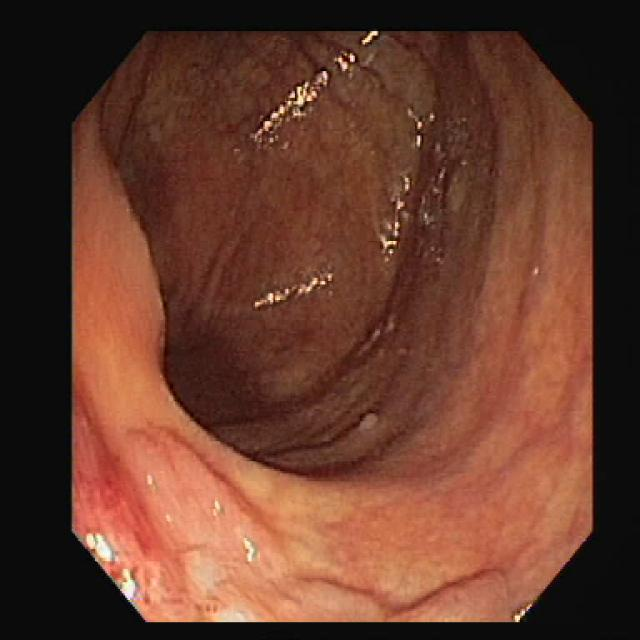tumor: (73, 360, 305, 618)
